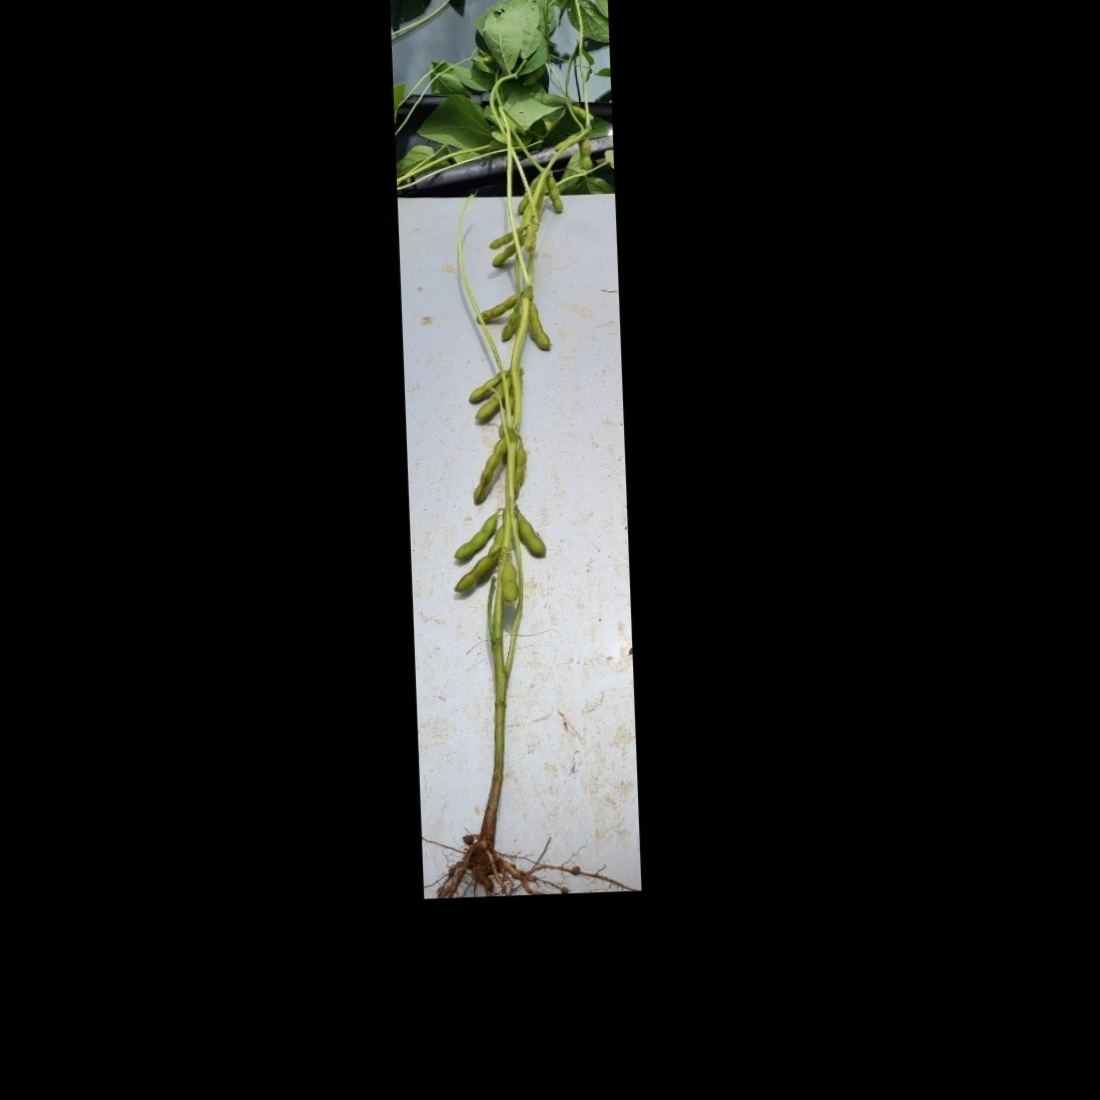pod: (447, 508, 499, 562), (467, 436, 509, 504), (511, 506, 549, 561), (449, 552, 496, 595), (488, 236, 528, 268), (526, 300, 551, 351), (499, 558, 520, 609), (543, 171, 566, 218), (487, 220, 523, 249), (497, 304, 522, 343), (573, 135, 593, 175), (519, 65, 546, 88)
soy: (406, 1, 615, 871)
